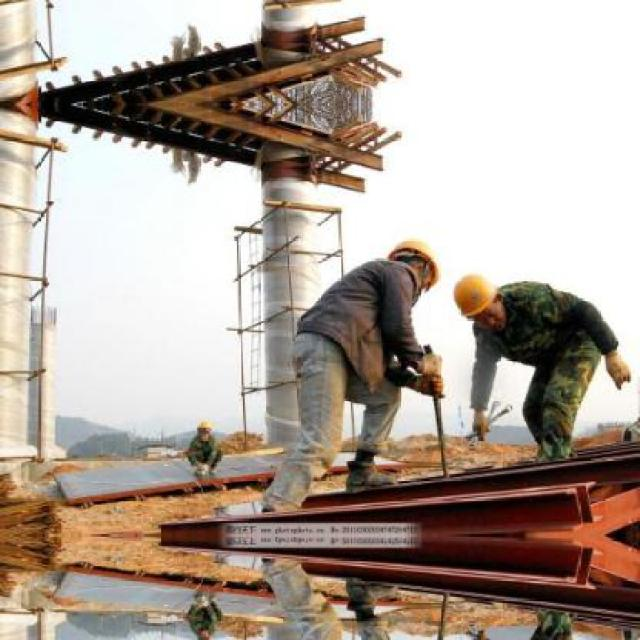helmet: (384, 234, 444, 301), (446, 267, 505, 330), (192, 417, 214, 438), (192, 630, 215, 638)
